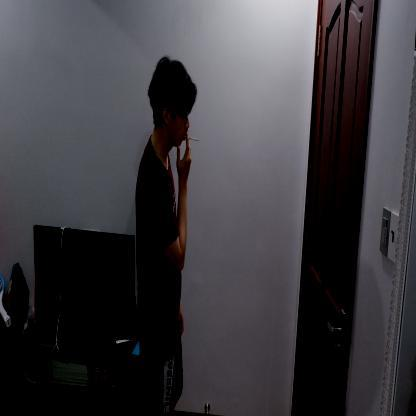cigarette: (188, 136, 200, 142)
person: (134, 51, 200, 416)
